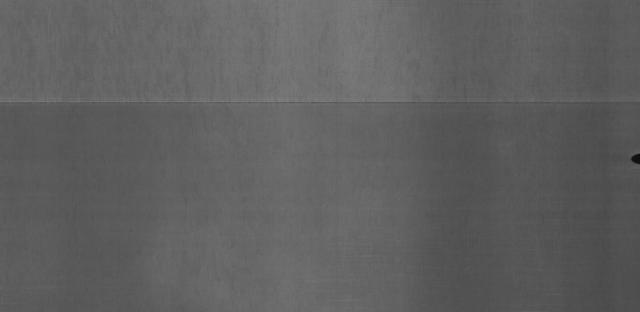punching_hole: (630, 150, 640, 164)
